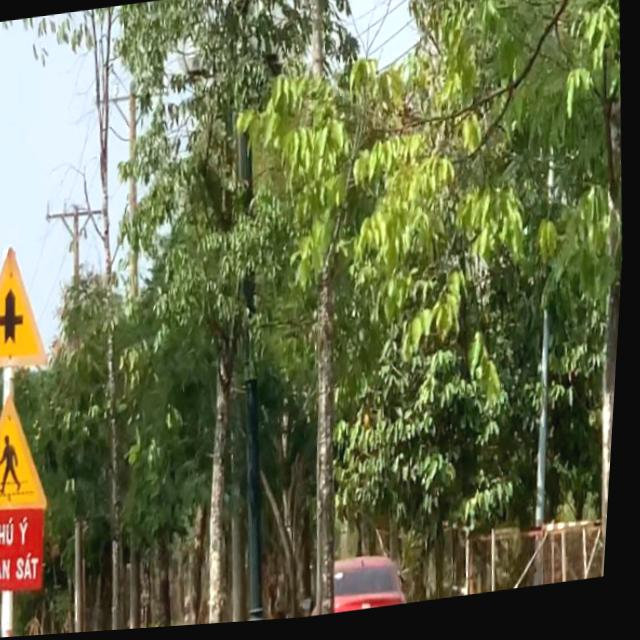Giao nhau voi duong khong uu tien: (0, 241, 60, 378)
Nguoi di bo cat ngang: (0, 389, 60, 520)
